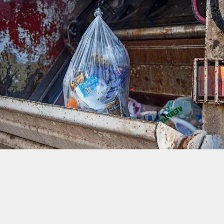plastic_bag: (55, 5, 134, 123), (156, 93, 206, 130)
